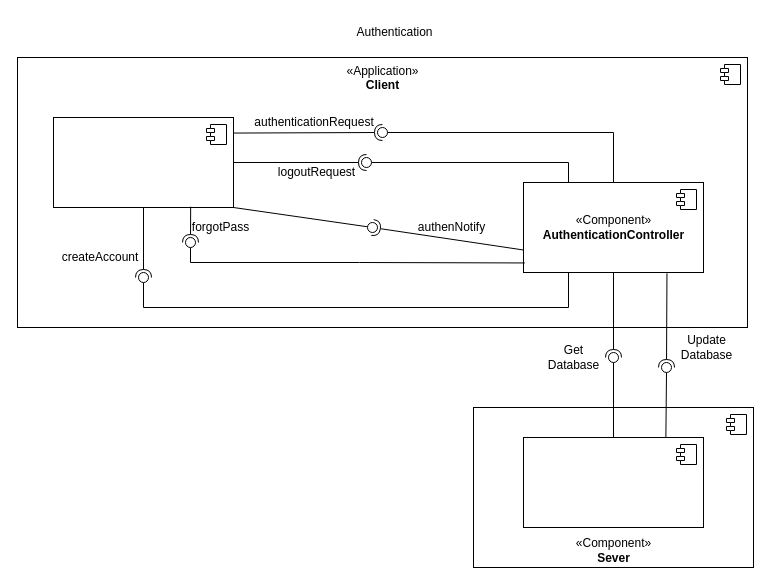
Some shapes in this 771 by 585 pixel diagram are drawn without their labels. Here are the shapes that lost their labels. From the top down, the centre of each, then its label:
[143,162]: «Component» Authentication View
[613,482]: «Component» UserModel
